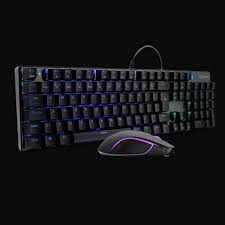keyboard: (12, 61, 218, 155)
mouse: (89, 129, 177, 166)
